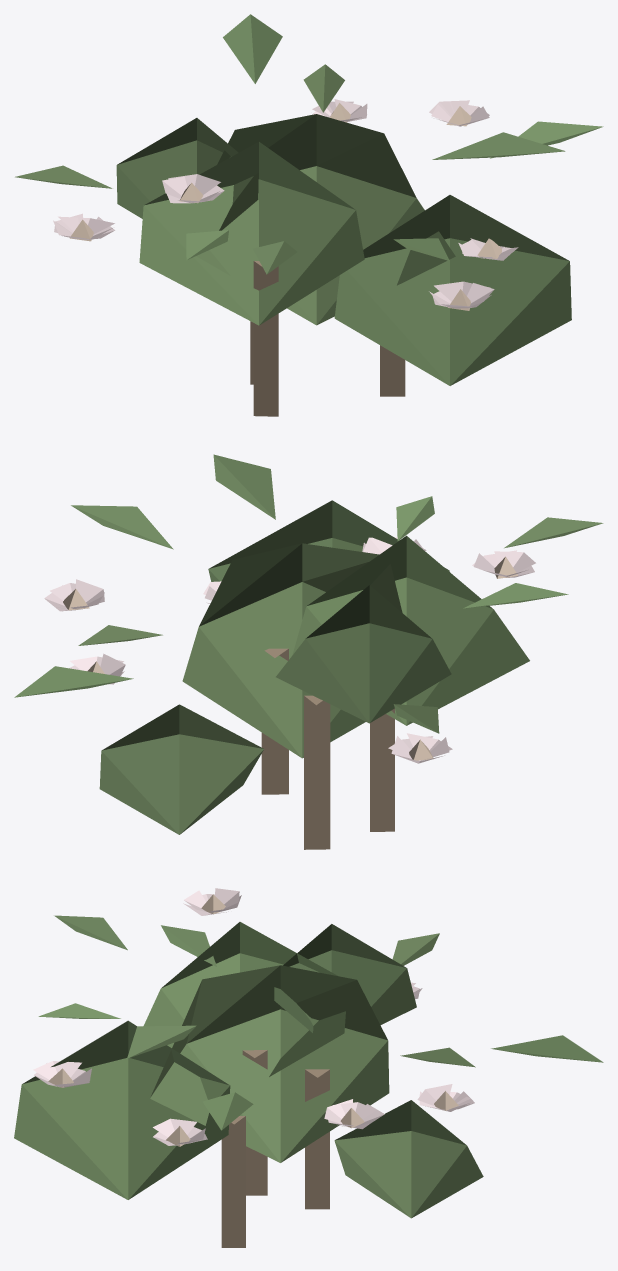
Rendered from guan.zhizi__summer.glb.
3 renders of one model, top to bottom at view 1: azimuth 30°, elevation 25°; view 2: azimuth 150°, elevation 25°; view 3: azimuth 270°, elevation 25°, orthographic. The views are drawn at different scales.
Visible parts, largest first — view 1: guan.zhizi__summer; view 2: guan.zhizi__summer; view 3: guan.zhizi__summer.
Part boxes in pixels (<box>): guan.zhizi__summer: <box>15,14,603,416</box>; guan.zhizi__summer: <box>14,454,603,849</box>; guan.zhizi__summer: <box>14,888,603,1247</box>.
Bounding box in the file's own units: 2.51 × 1.46 × 2.89.
